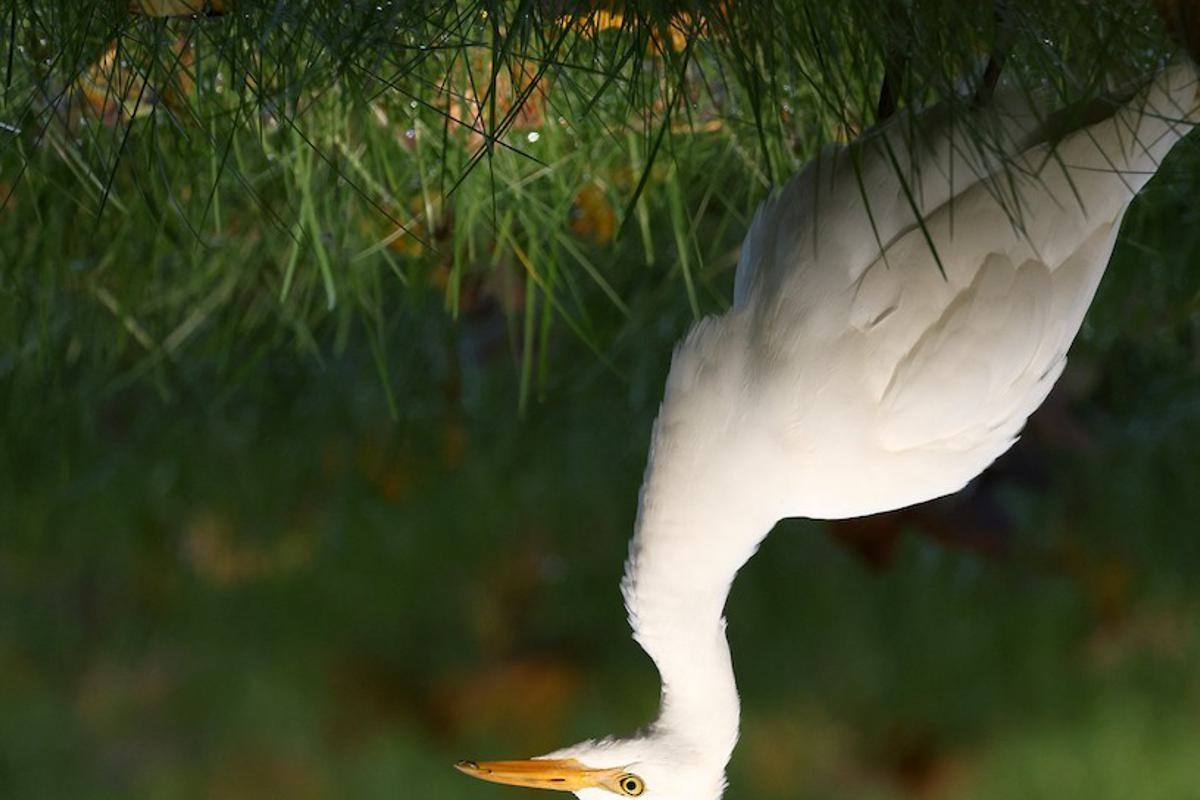egret: (451, 97, 1179, 796)
